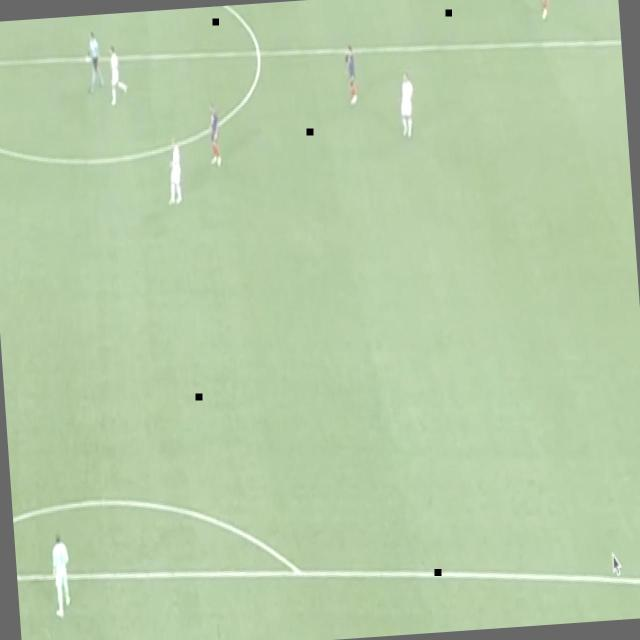player-white: (48, 529, 74, 623), (162, 134, 185, 208), (106, 43, 130, 109), (397, 70, 418, 142), (84, 31, 106, 96), (204, 101, 224, 171), (341, 42, 359, 106), (536, 0, 555, 23)
